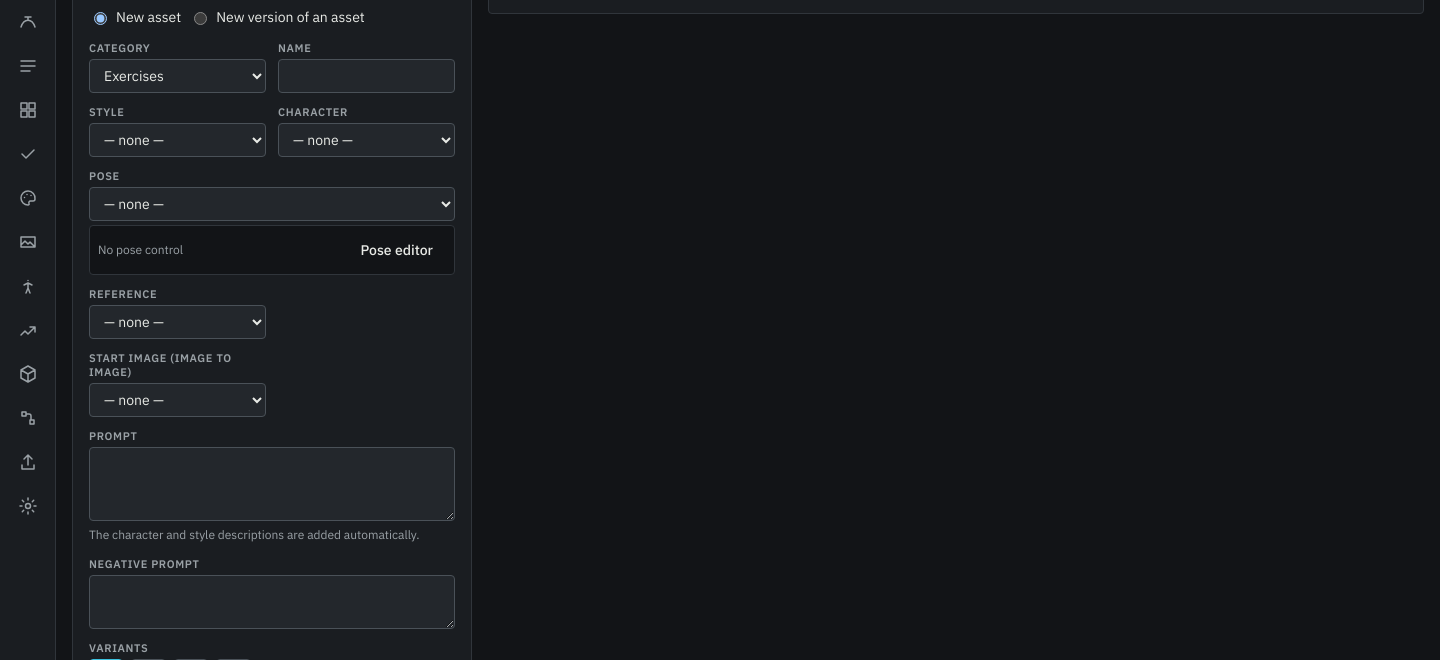
Test: Generation Studio › blocks queueing with problems and a pending licence, and says why (RULE-007)
This screenshot has width=1440, height=660.
Type "a squat" into the text box labelled "Prompt".
click(272, 484); type("a squat")  # box [89,447,455,521]
(page scrolled)
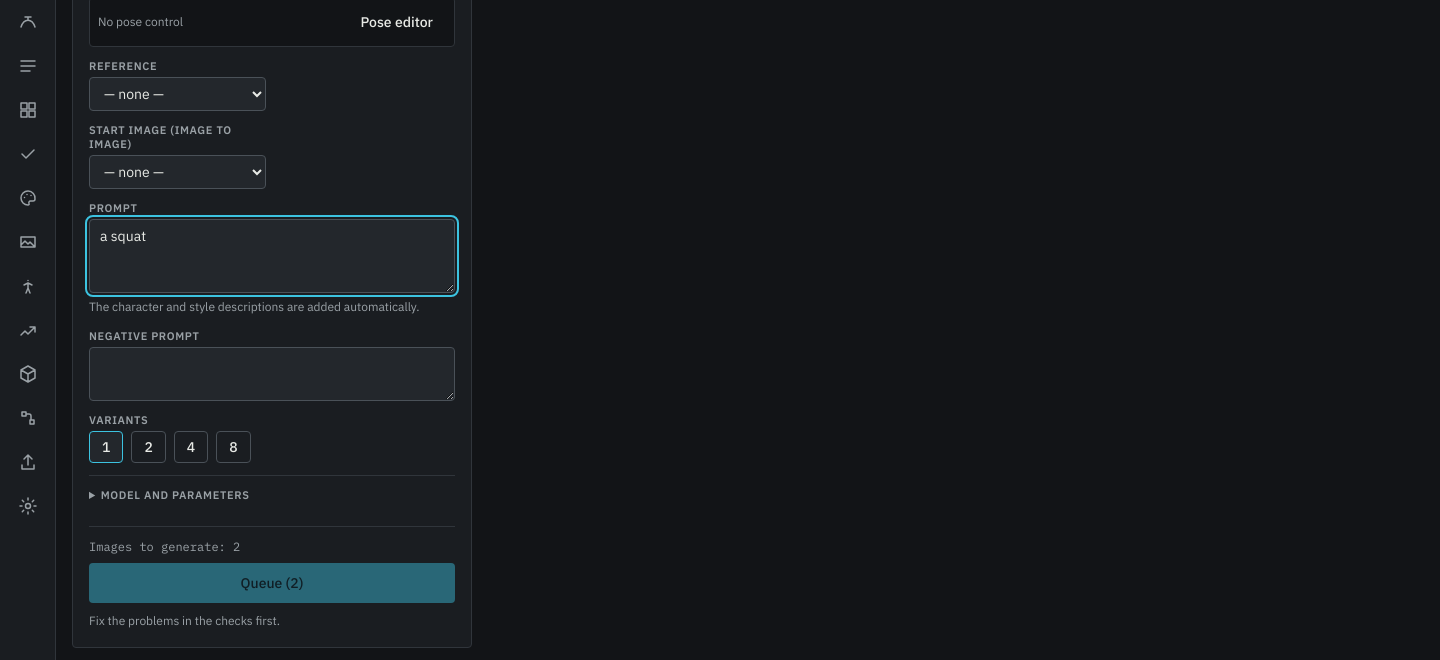
Expected: the button "Queue (2)" is disabled, [89,563,455,603]
Result: the text "Fix the problems in the checks first." is shown at [89,613,280,628]
